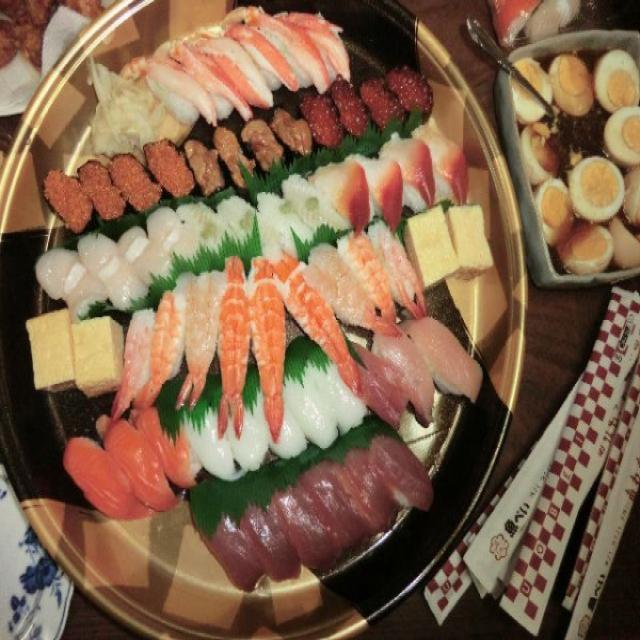Sushi: (65, 27, 466, 507)
